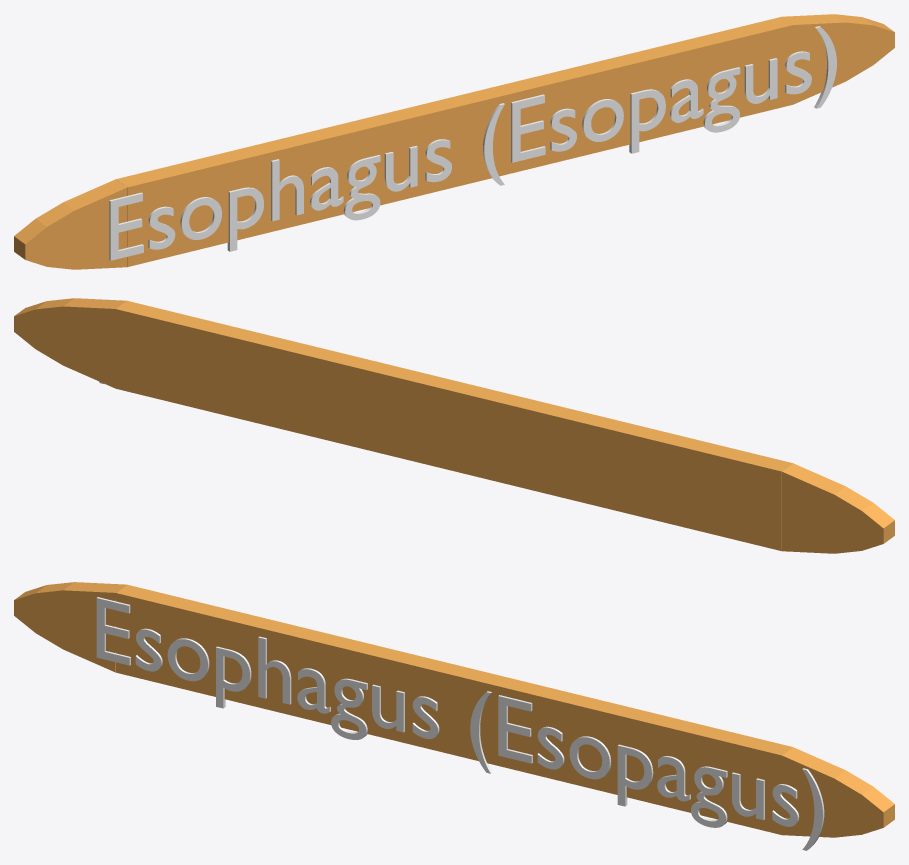
The model's file is txtEsophagus.fbx.
The picture shows the model from 3 angles, top to bottom: view 1: azimuth 30°, elevation 25°; view 2: azimuth 150°, elevation 25°; view 3: azimuth 330°, elevation 25°; orthographic projection.
Visible parts, largest first — view 1: TagContainer.078, Text.079; view 2: TagContainer.078; view 3: TagContainer.078, Text.079.
Part boxes in pixels (box(x1,y1,x2,y2)): TagContainer.078: box(14, 14, 894, 269); Text.079: box(109, 26, 836, 260); TagContainer.078: box(14, 298, 894, 553); TagContainer.078: box(14, 582, 894, 837); Text.079: box(96, 597, 824, 850).
Bounding box in the file's own units: 472 × 45.66 × 11.92.
